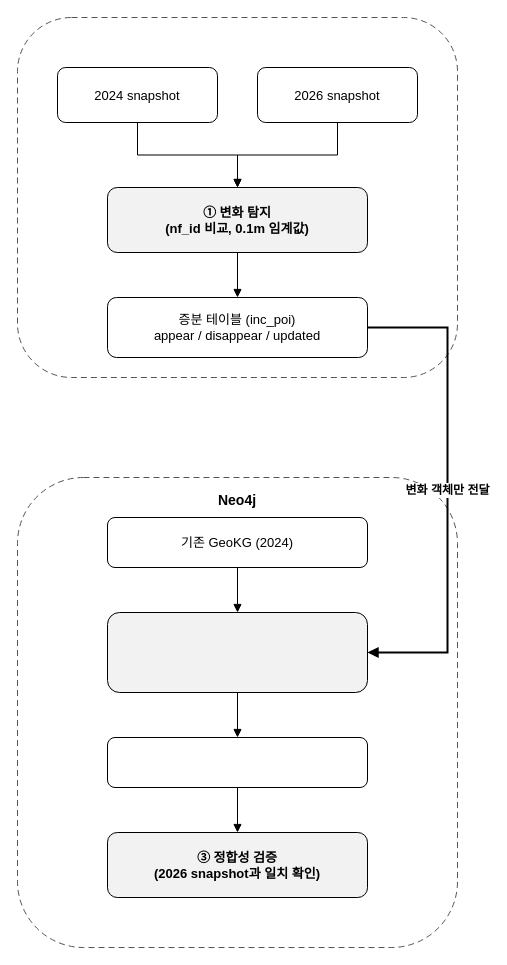
Some shapes in this 507 by 965 pixel diagram are drawn without their labels. The box of each missing label's shape, as (x1, y1, x2, y2) in pixels:
PostgreSQL / PostGIS: (16, 16, 458, 378)
② 그래프 증분 반영 appear·updated: MERGE disappear: 라벨 전환: (106, 612, 368, 692)
갱신된 GeoKG (2026): (106, 736, 368, 788)
